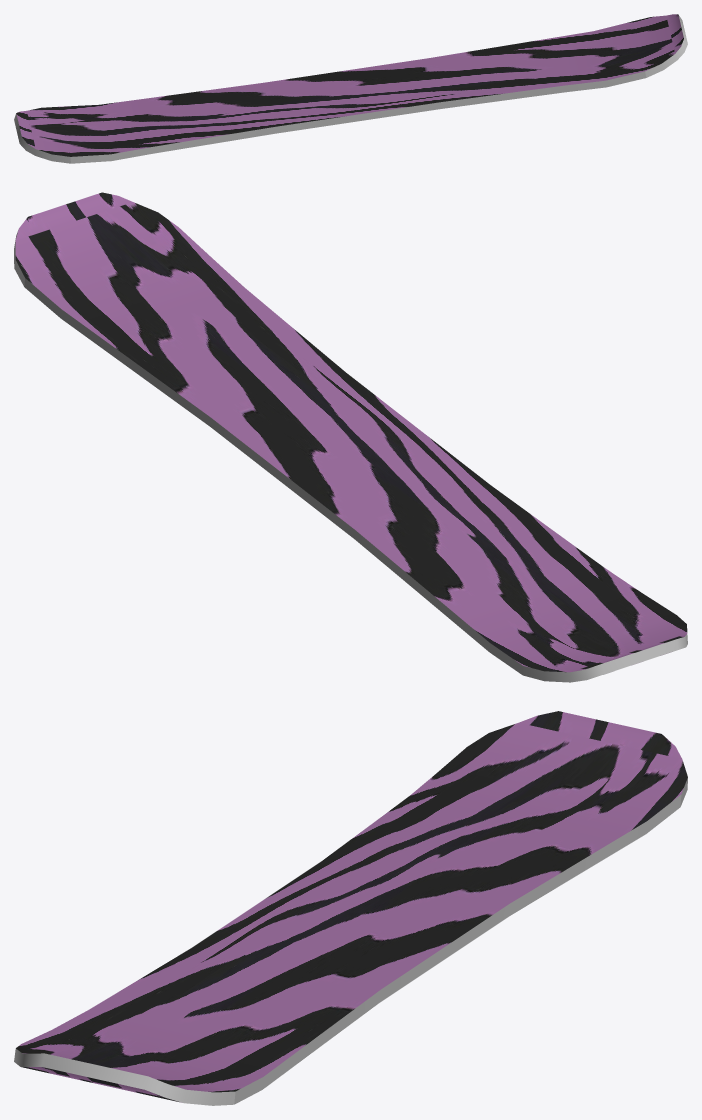
Rendered from snowboard.obj.
3 renders of one model, top to bottom at view 1: azimuth 30°, elevation 25°; view 2: azimuth 150°, elevation 25°; view 3: azimuth 270°, elevation 25°, orthographic. The views are drawn at different scales.
Visible parts, largest first — view 1: Plane.001; view 2: Plane.001; view 3: Plane.001.
Part boxes in pixels (bbox=[...]): Plane.001: bbox=[14, 14, 687, 163]; Plane.001: bbox=[14, 192, 687, 682]; Plane.001: bbox=[14, 711, 687, 1105].
Size of the model in its own units: 361 by 55.9 by 206.
